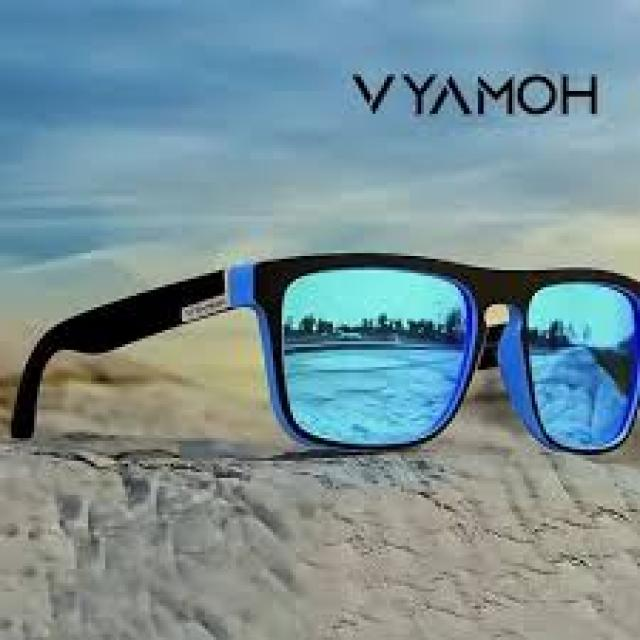suspicious-objects: (207, 251, 640, 456)
